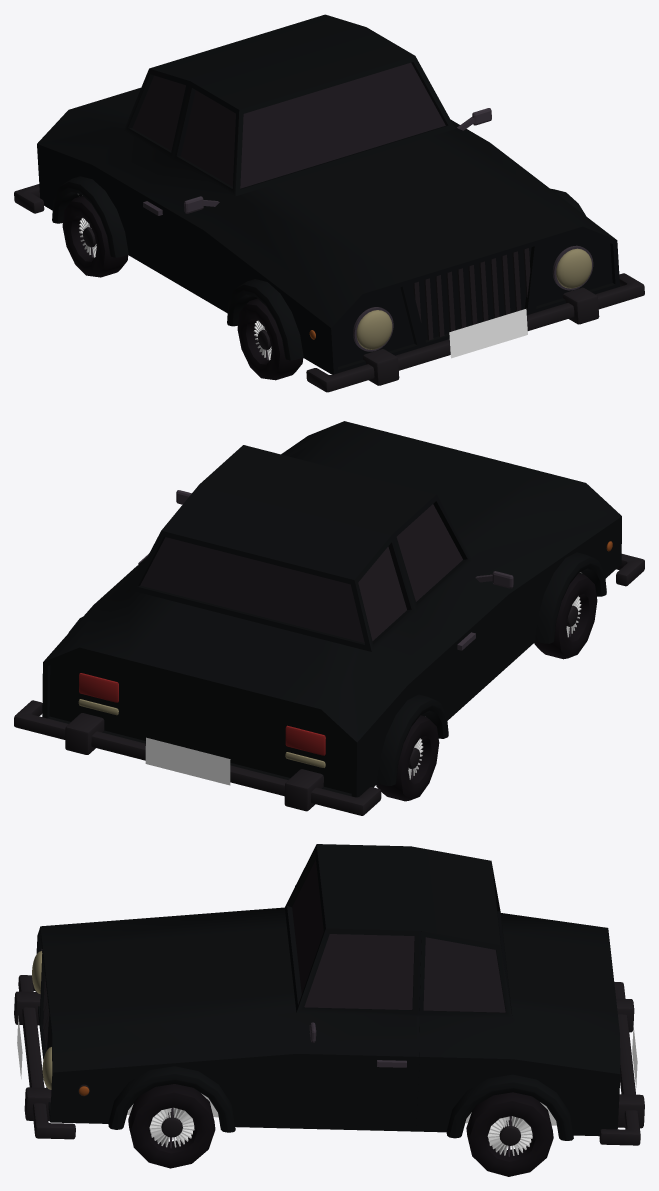
File: Araba.fbx
3 views of the same model, one above another, from view 1: azimuth 30°, elevation 25°; view 2: azimuth 150°, elevation 25°; view 3: azimuth 270°, elevation 25° (orthographic). The views are drawn at different scales.
Parts seen in each view (by area): view 1: Cube_2_2, Cube_6, Tube, Tube_2, Tube_1_2, Tube_1, Sphere, Cube, Cube_7, Cylinder, Cube_9, Cube_3; view 2: Cube_2_2, Cube_9, Tube_1, Tube_2, Tube, Tube_1_2, Cube_8, Cube_10, Cube_4, Cube_6, Cube_5; view 3: Cube_2_2, Tube, Tube_2, Tube_1_2, Tube_1, Cube_6, Cube_9, Cube_7, Cube_8, Sphere.
Part boxes in pixels (x1,y1,x2,y2): Cube_2_2: (37, 14, 619, 374); Cube_6: (306, 273, 644, 392); Tube: (62, 196, 128, 277); Tube_2: (237, 298, 303, 380); Tube_1_2: (227, 188, 586, 360); Tube_1: (52, 176, 128, 257); Sphere: (356, 248, 591, 349); Cube: (449, 309, 527, 358); Cube_7: (363, 287, 599, 385); Cylinder: (353, 245, 593, 351); Cube_9: (14, 184, 44, 213); Cube_3: (184, 108, 491, 213); Cube_2_2: (42, 421, 621, 797); Cube_9: (14, 700, 381, 815); Tube_1: (68, 617, 448, 785); Tube_2: (534, 573, 597, 659); Tube: (376, 715, 439, 801); Tube_1_2: (535, 552, 606, 643); Cube_8: (65, 713, 323, 811); Cube_10: (145, 737, 230, 785); Cube_4: (79, 673, 325, 755); Cube_6: (616, 554, 644, 586); Cube_5: (78, 699, 325, 767); Cube_2_2: (35, 844, 620, 1136); Tube: (466, 1092, 553, 1176); Tube_2: (128, 1084, 215, 1168); Tube_1_2: (108, 1066, 235, 1132); Tube_1: (446, 1074, 573, 1140); Cube_6: (18, 975, 75, 1139); Cube_9: (599, 982, 640, 1145); Cube_7: (14, 991, 51, 1121); Cube_8: (616, 998, 644, 1128); Sphere: (32, 951, 52, 1089).
Size of the model in its own units: 199 by 120 by 301.
